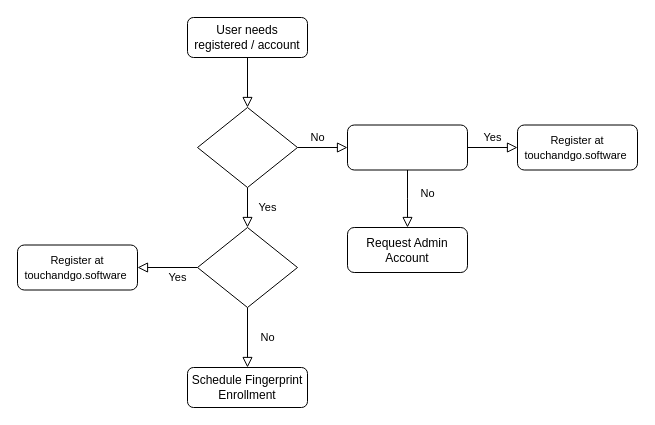
This 655x425 diagram has some shape labels left out. Here are the shapes that lost their labels. From the top down, the centre of each, then its label:
At (x=247, y=147): "Student?".
At (x=407, y=147): "Professor?".
At (x=247, y=267): "Enrolled Fingerprint?".
